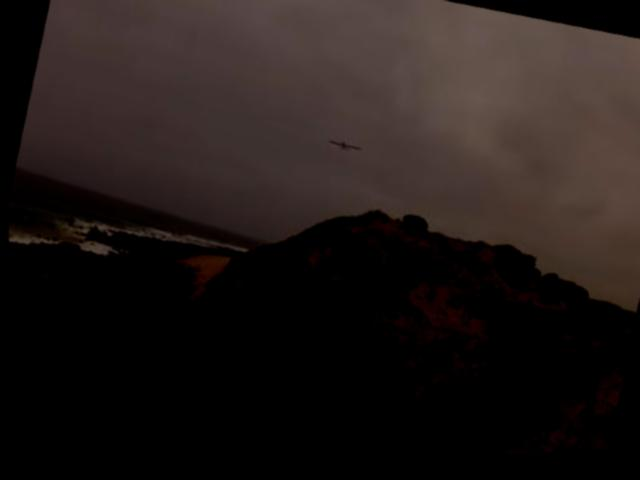uav: (320, 135, 365, 164)
